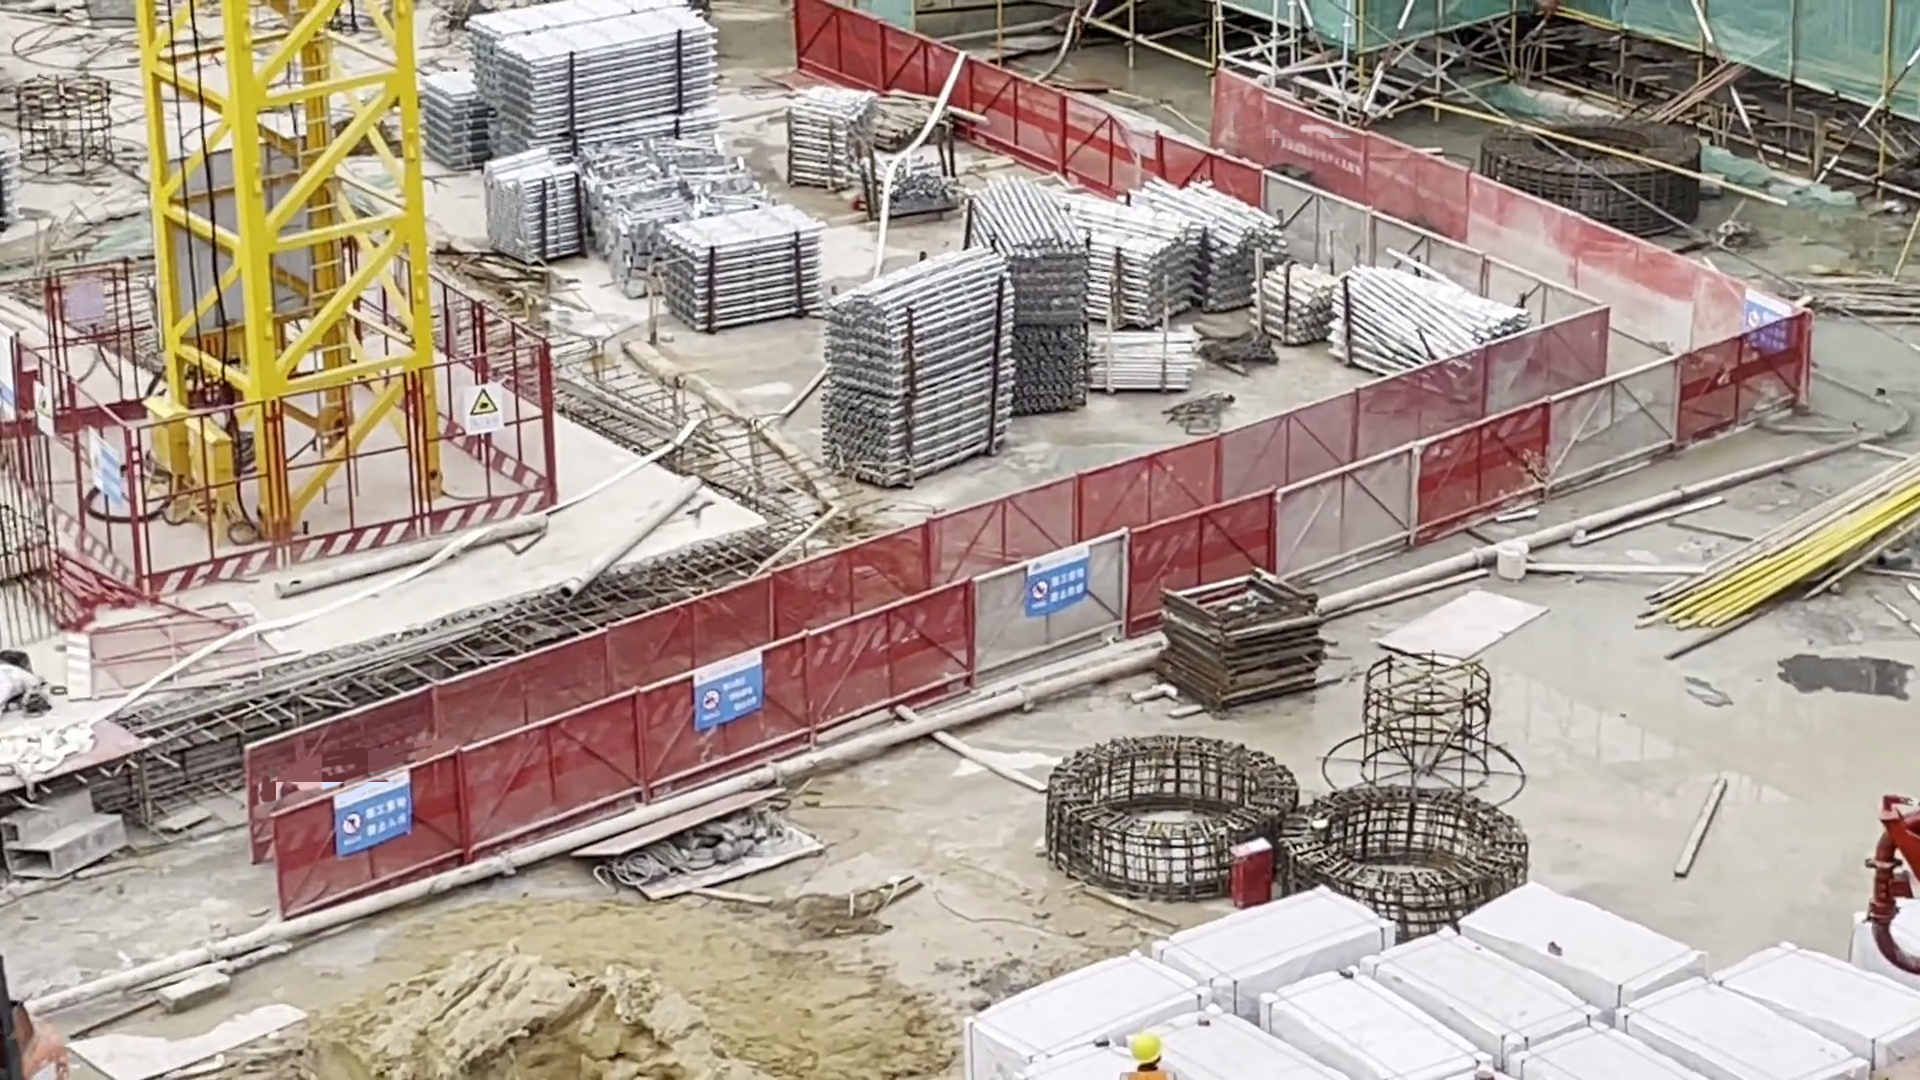person: (1119, 1026, 1175, 1080)
scaffold: (825, 249, 1015, 487), (476, 1, 716, 156), (966, 174, 1089, 416), (1340, 273, 1529, 407), (664, 203, 821, 333), (1144, 177, 1288, 314), (1065, 193, 1202, 326), (484, 149, 587, 265), (794, 85, 878, 190), (1260, 264, 1340, 345), (1092, 331, 1201, 389), (425, 71, 484, 170)
slogan: (337, 773, 410, 857), (696, 652, 762, 730), (1025, 544, 1090, 619), (1745, 288, 1788, 350)
